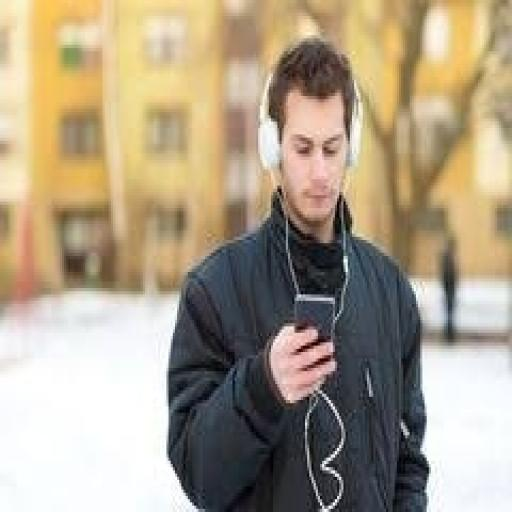listening_to_music: (164, 32, 431, 509)
